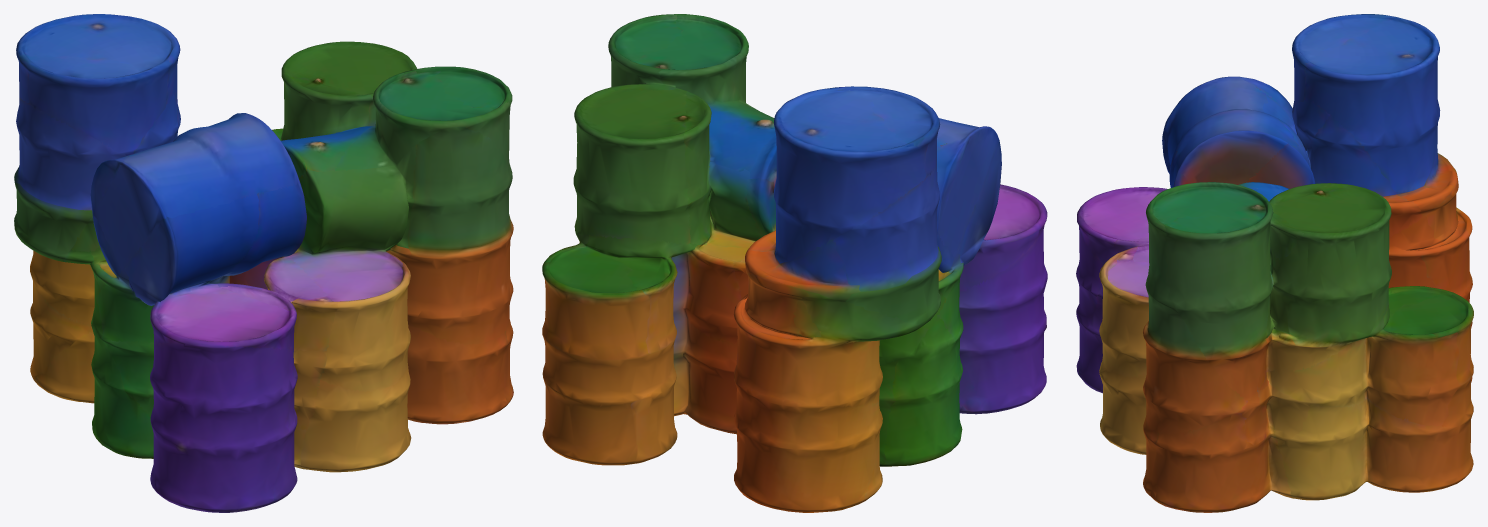
File: oil_barrel_stack.glb
3 renders of one model, left to right at view 1: azimuth 30°, elevation 25°; view 2: azimuth 150°, elevation 25°; view 3: azimuth 270°, elevation 25°, orthographic. The views are drawn at different scales.
Visible parts, largest first — view 1: tripo_node_25a2bcfa-3293-496b-8d57-35a80bee9044; view 2: tripo_node_25a2bcfa-3293-496b-8d57-35a80bee9044; view 3: tripo_node_25a2bcfa-3293-496b-8d57-35a80bee9044.
Boxes of the visible parts, box(x1,y1,x2,y2) form: tripo_node_25a2bcfa-3293-496b-8d57-35a80bee9044: box(14, 14, 513, 512); tripo_node_25a2bcfa-3293-496b-8d57-35a80bee9044: box(542, 14, 1047, 512); tripo_node_25a2bcfa-3293-496b-8d57-35a80bee9044: box(1076, 14, 1473, 512).
Size of the model in its own units: 0.9486 by 0.8183 by 0.8978.
1 material, 1 textured.
